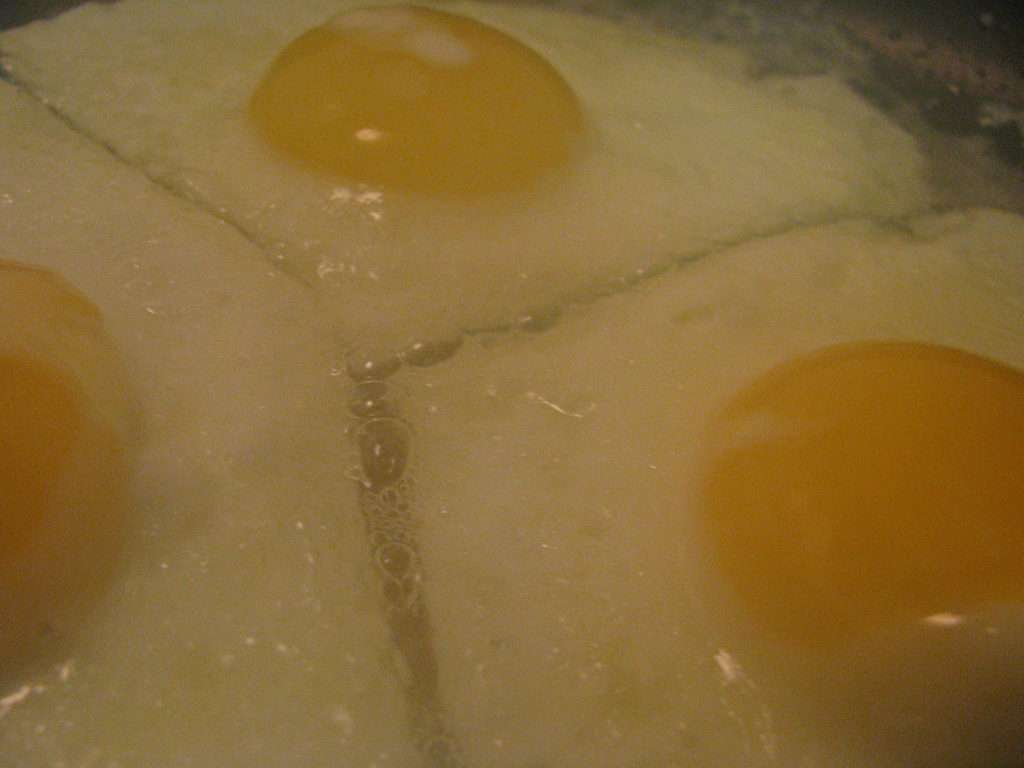fried egg: (391, 276, 1004, 738), (109, 9, 675, 343)
